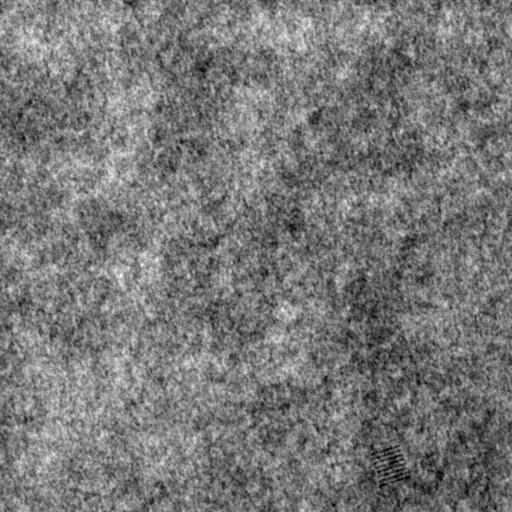DefectTypeB: (372, 446, 409, 485)
